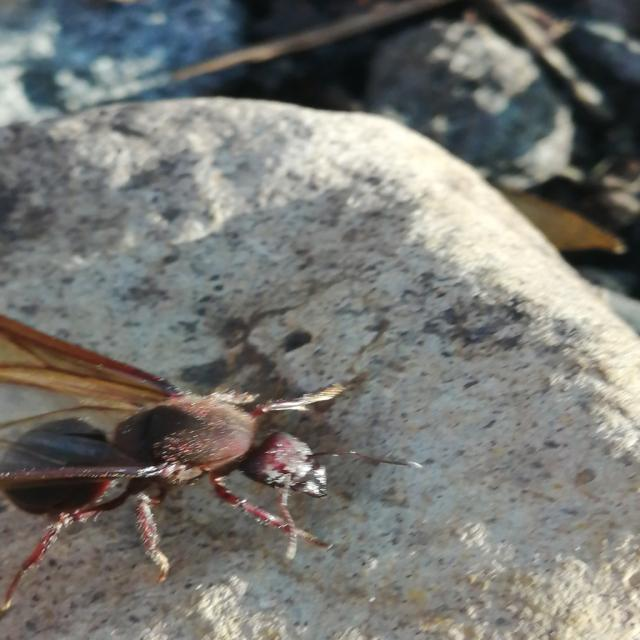Alive-Female-Alate: (0, 314, 422, 617)
